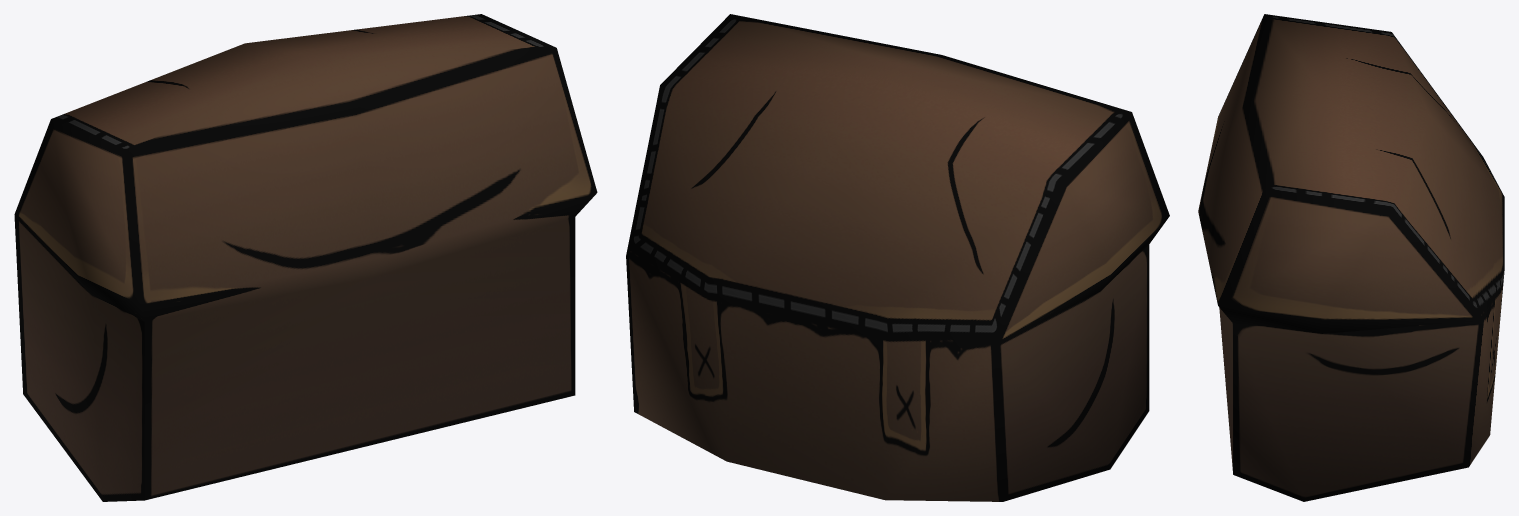
Rendered from mod_mod_bp_pocket04.fbx.
3 views of the same model, side by side, from view 1: azimuth 30°, elevation 25°; view 2: azimuth 150°, elevation 25°; view 3: azimuth 270°, elevation 25° (orthographic). The views are drawn at different scales.
Visible parts, largest first — view 1: mod_mod_bp_pocket04; view 2: mod_mod_bp_pocket04; view 3: mod_mod_bp_pocket04.
Boxes of the visible parts, x1=… form: mod_mod_bp_pocket04: x1=14, y1=14, x2=597, y2=501; mod_mod_bp_pocket04: x1=626, y1=14, x2=1169, y2=501; mod_mod_bp_pocket04: x1=1198, y1=14, x2=1504, y2=501.
Size of the model in its own units: 32.12 by 27.09 by 22.03.
